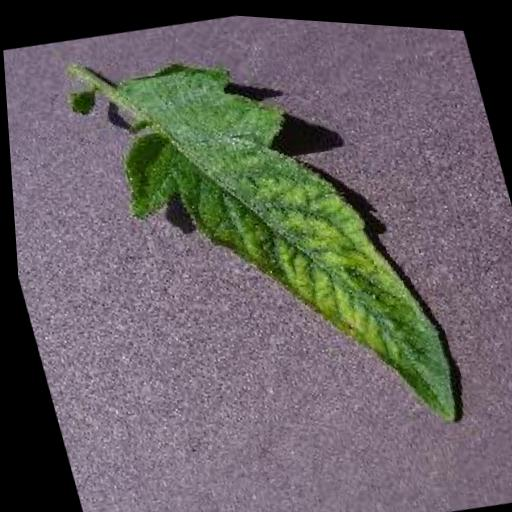Mosaic Virus: (89, 22, 468, 476)
